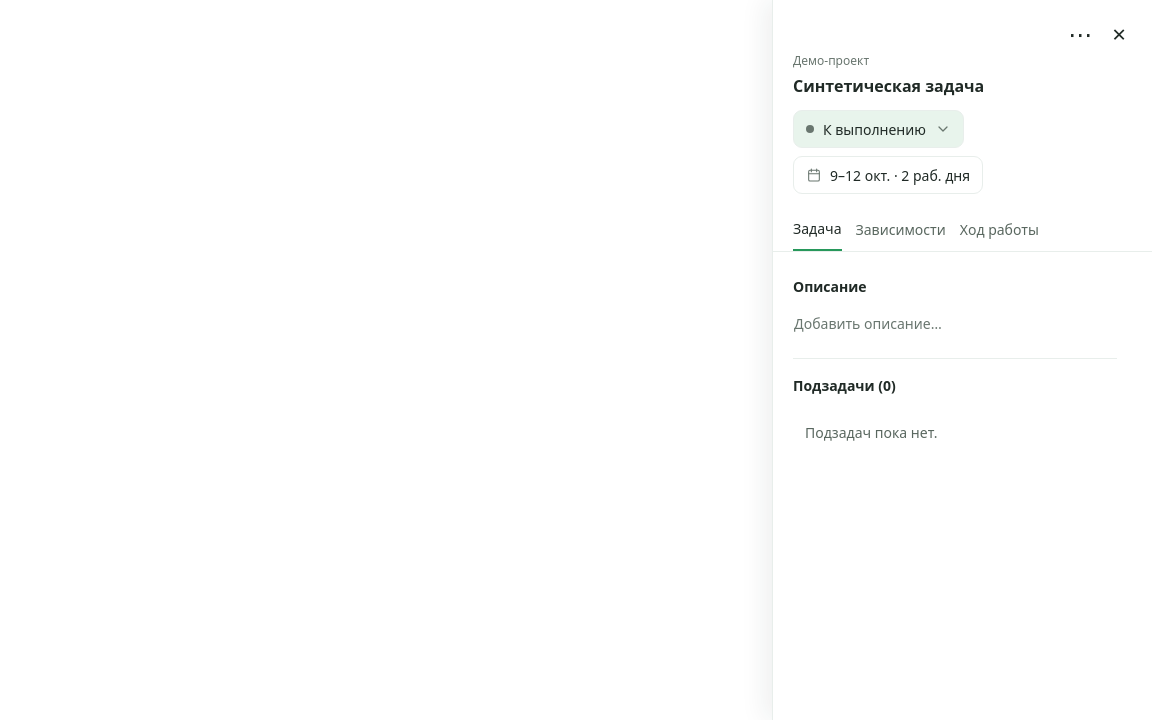
retains invalid duration 0 and clear all removes validation
Click the button with aria-label "Сроки задачи:" at (888, 175), box 793,156 -> 983,194
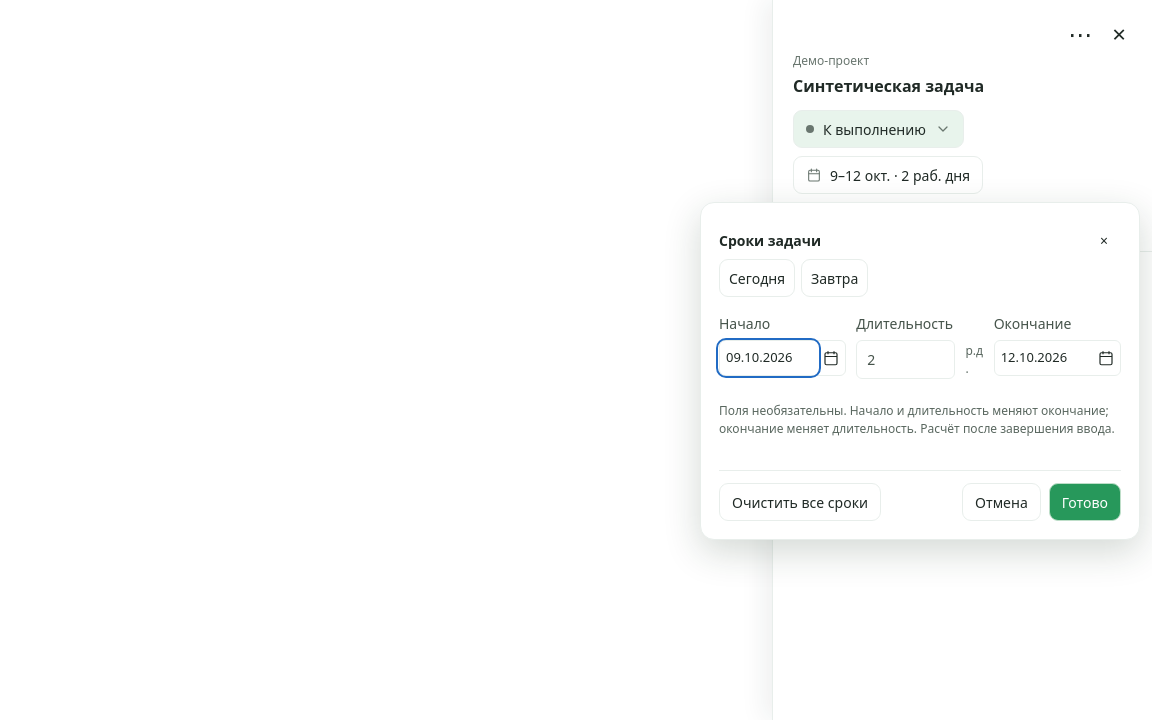
Replace the text in the field named "Длительность, рабочих дней" with "0" at (906, 360), box 856,340 -> 955,379
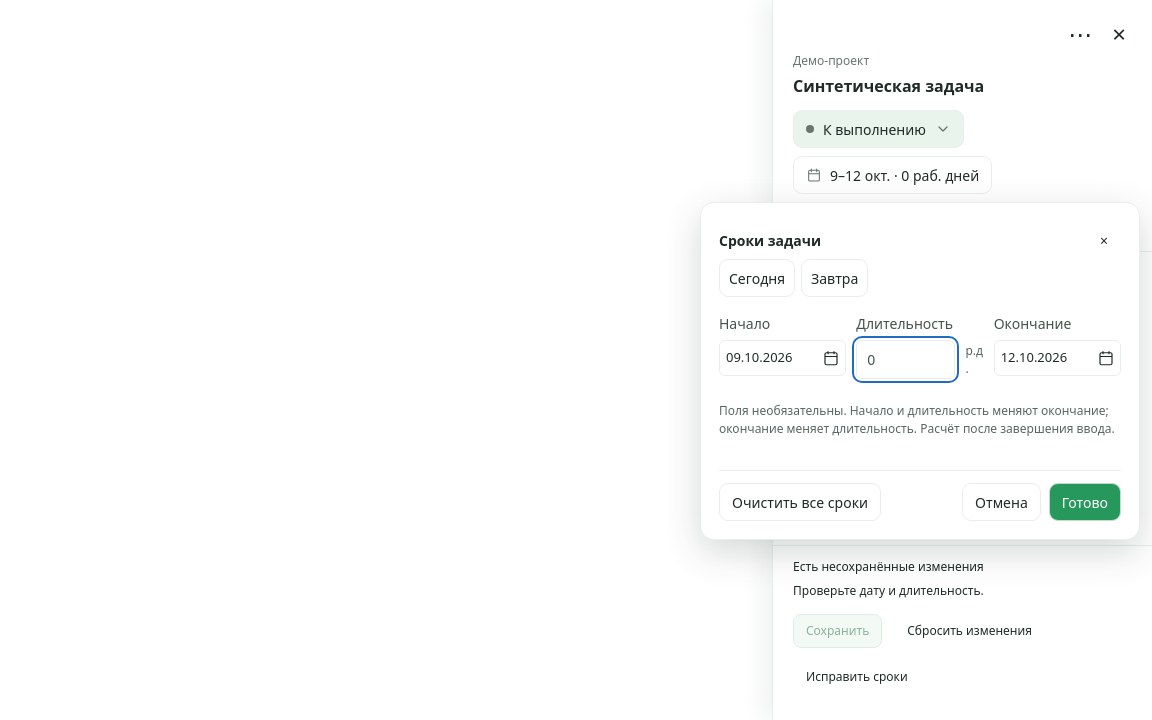
Click the button "Готово" at (1085, 502), box 1049,483 -> 1121,521
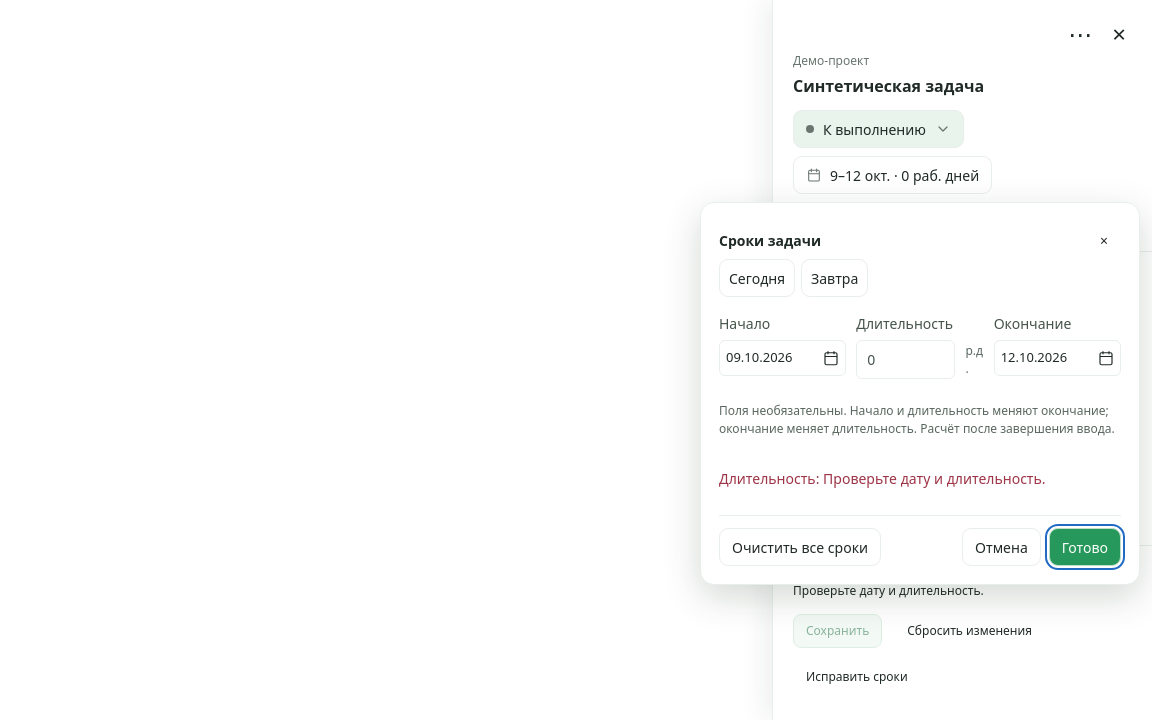
Click the button "Очистить все сроки" at (800, 547), box 719,528 -> 881,566
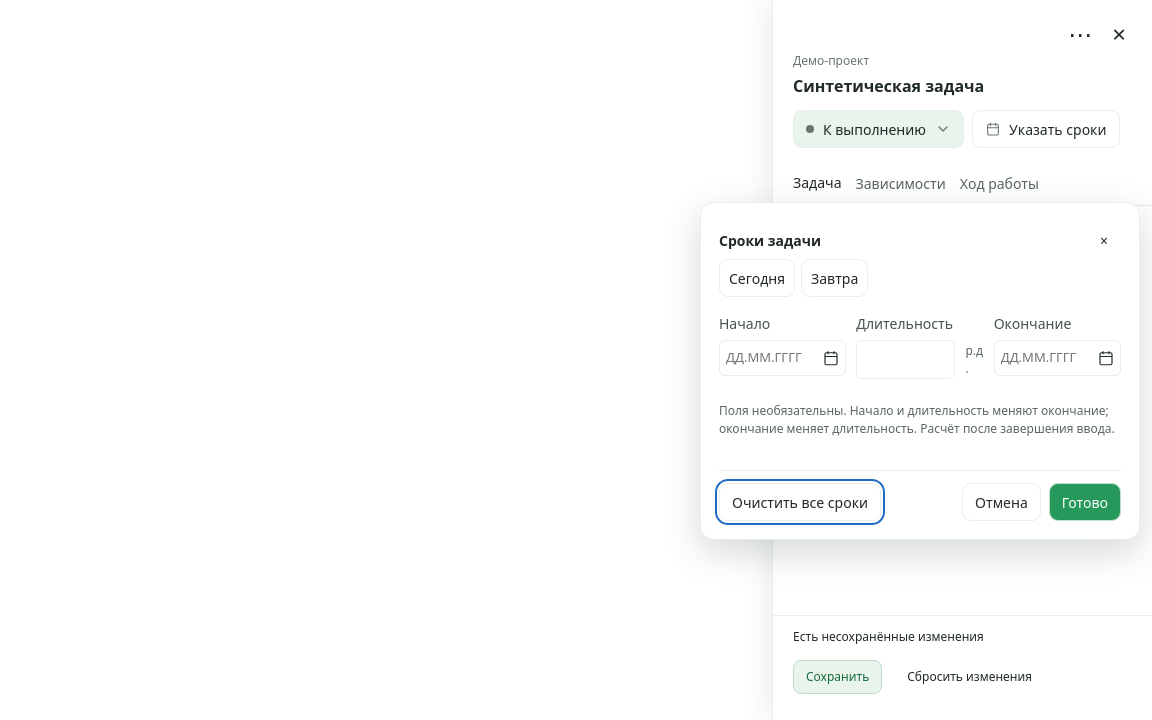
Now the field labelled "Начало" is empty, box 720,342 -> 817,374
Now the field labelled "Окончание" is empty, box 995,342 -> 1092,374
Now the message "Длительность: Проверьте дату и длительность." is gone
